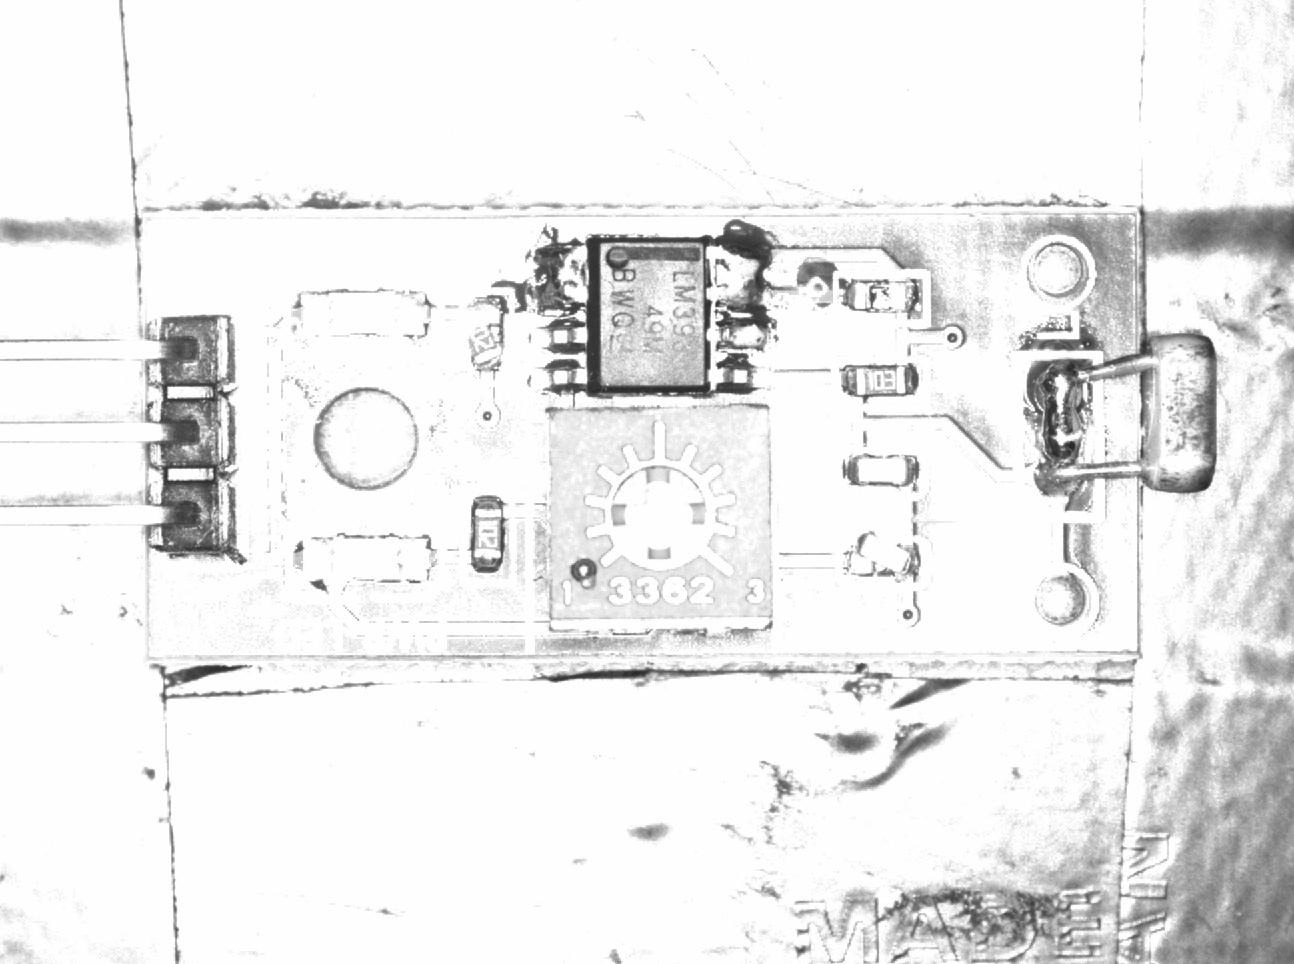bridge: (1019, 358, 1104, 524), (705, 231, 778, 351), (525, 230, 590, 316)
lifted: (842, 526, 925, 584), (464, 288, 514, 377)
miss: (837, 276, 931, 324)
ok: (458, 486, 515, 580), (836, 359, 924, 404), (839, 449, 925, 493)
